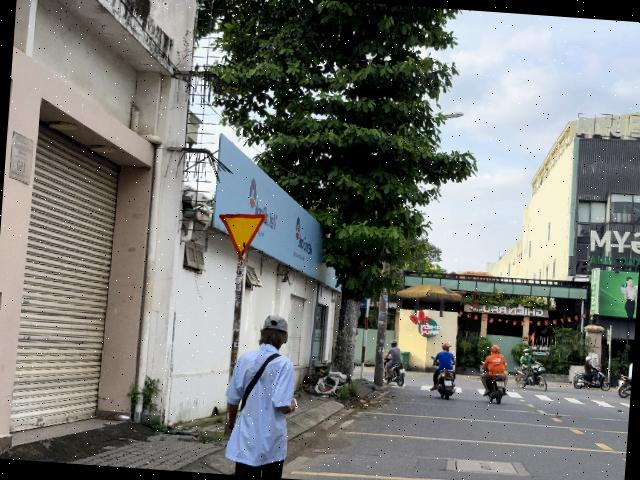giao-nhau-voi-duong-uu-tien: (216, 210, 266, 260)
